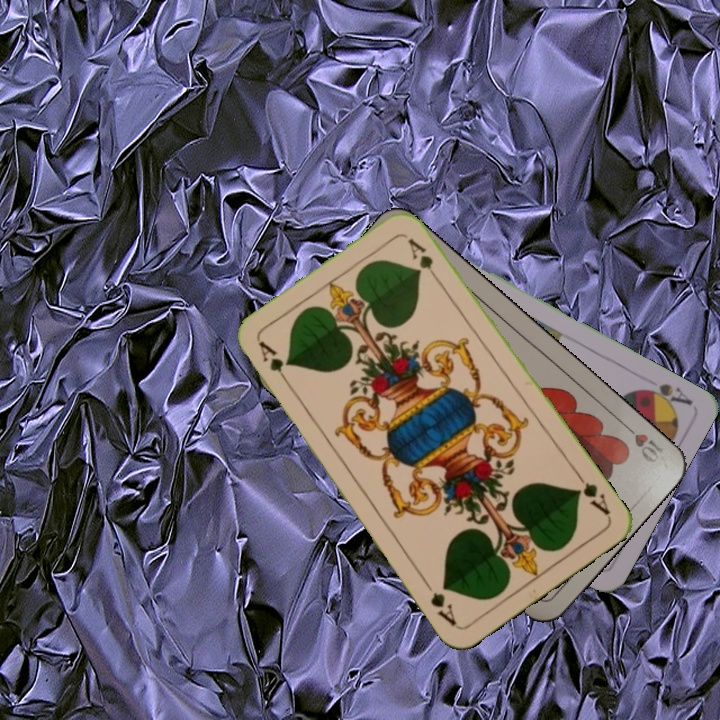GA: (571, 468, 613, 518), (254, 337, 293, 390)
H10: (617, 418, 666, 466)
SA: (635, 379, 695, 412)
